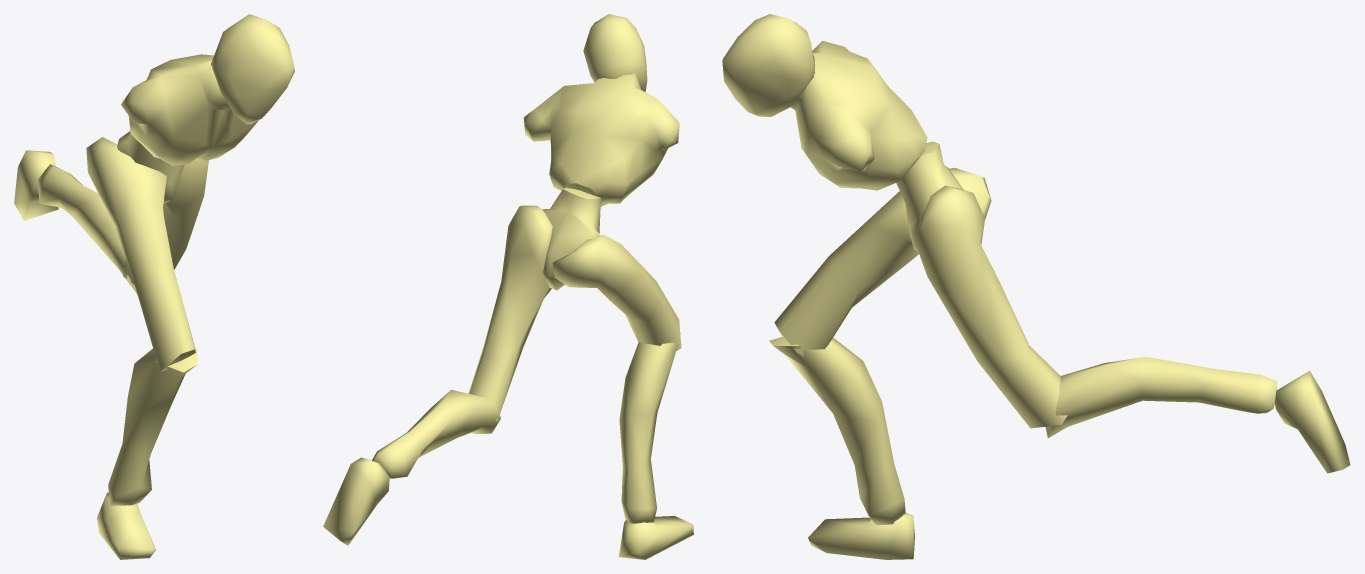
File: filth3.obj
The picture shows the model from 3 angles, left to right: view 1: azimuth 30°, elevation 25°; view 2: azimuth 150°, elevation 25°; view 3: azimuth 270°, elevation 25°; orthographic projection. The views are drawn at different scales.
Parts seen in each view (by area): view 1: Melee_Husk; view 2: Melee_Husk; view 3: Melee_Husk.
Boxes of the visible parts, x1,y1,x2,y2 form: Melee_Husk: (14, 14, 294, 559); Melee_Husk: (323, 14, 693, 559); Melee_Husk: (722, 14, 1350, 559).
Bounding box in the file's own units: 22.18 × 65.55 × 64.44.
